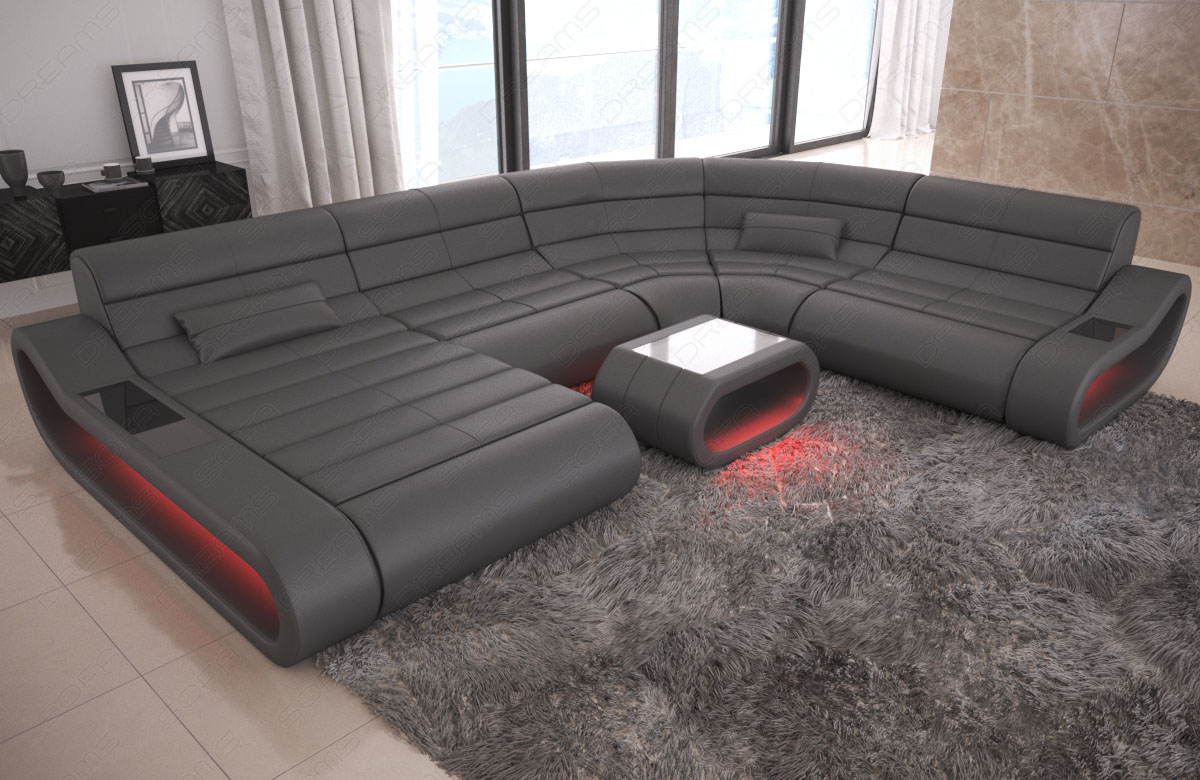bantal: (180, 283, 332, 345), (736, 211, 841, 257)
gelas: (94, 162, 123, 183), (131, 157, 158, 177)
lukisan: (118, 58, 217, 172)
meja: (593, 313, 822, 446)
sova: (44, 163, 1138, 484)
